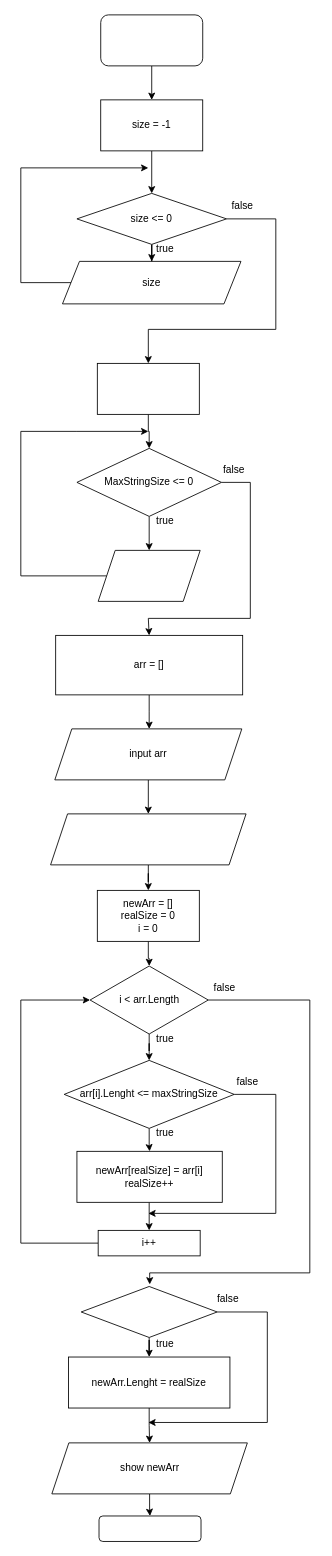
Some shapes in this 332 by 1556 pixel diagram are drawn without their labels. The centre of each missing label's shape, as x and y in pixels:
end: pixel 149 1528
MaxStringSize: pixel 148 575
MaxStringSize = -1: pixel 147 388
realSize < arr.Length: pixel 148 1311
show arr: pixel 148 839
start: pixel 151 40
